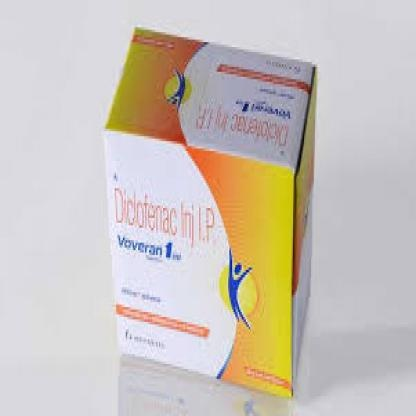trash: (105, 28, 316, 395)
